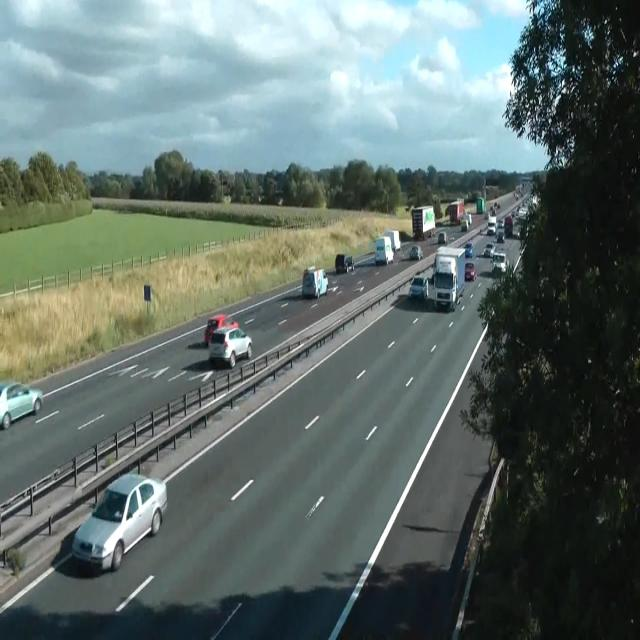bus: (0, 382, 43, 429), (408, 274, 428, 300), (464, 261, 476, 281), (409, 246, 423, 260), (344, 255, 354, 272), (464, 241, 473, 258), (484, 242, 494, 257), (438, 231, 448, 245), (496, 230, 505, 243), (460, 219, 468, 231)
jeep: (71, 471, 167, 573), (208, 324, 252, 368), (204, 314, 238, 346), (490, 250, 507, 274), (335, 253, 353, 273)
minibus: (433, 245, 465, 311), (411, 205, 435, 240), (302, 266, 328, 298), (374, 235, 394, 265), (448, 199, 464, 224), (384, 230, 400, 252), (460, 213, 472, 231), (487, 215, 497, 235), (503, 215, 512, 237), (476, 196, 484, 214)
